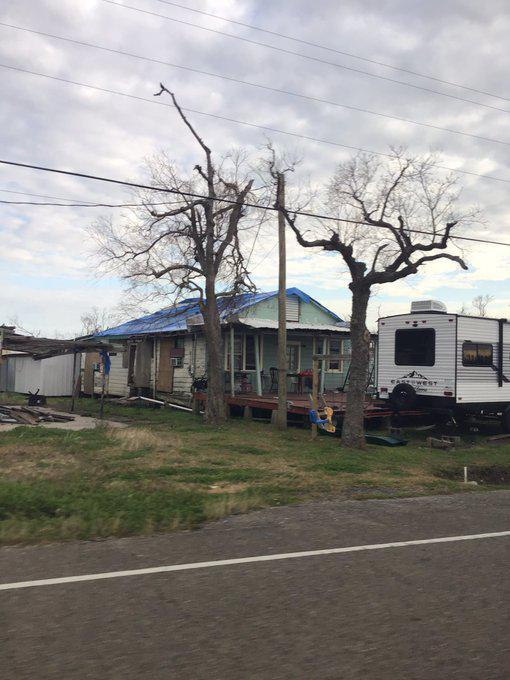minor: (99, 264, 384, 425)
